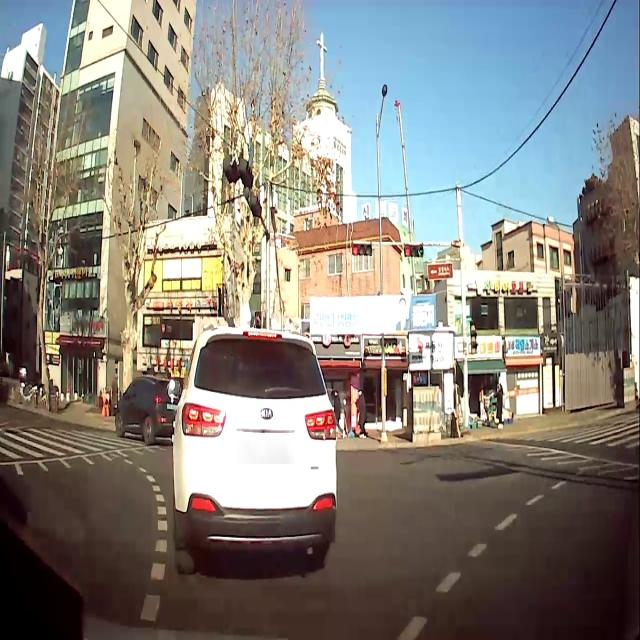Red Light: (353, 244, 359, 255), (405, 246, 411, 257)
